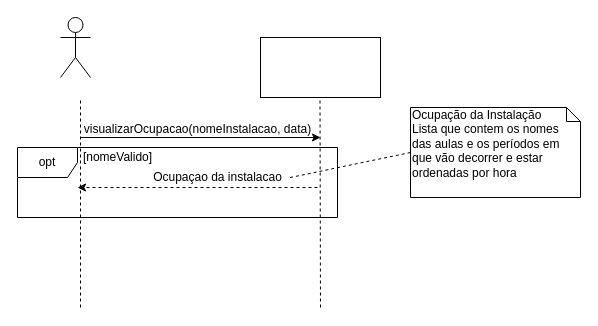
Some shapes in this 598 by 326 pixel diagram are drawn without their labels. The shapes that lost their labels are listed below. From the top down, each one's centre as x and y in pixels, then its label:
At point 75,47: "Gestor".
At point 320,67: ":AulaGes".
